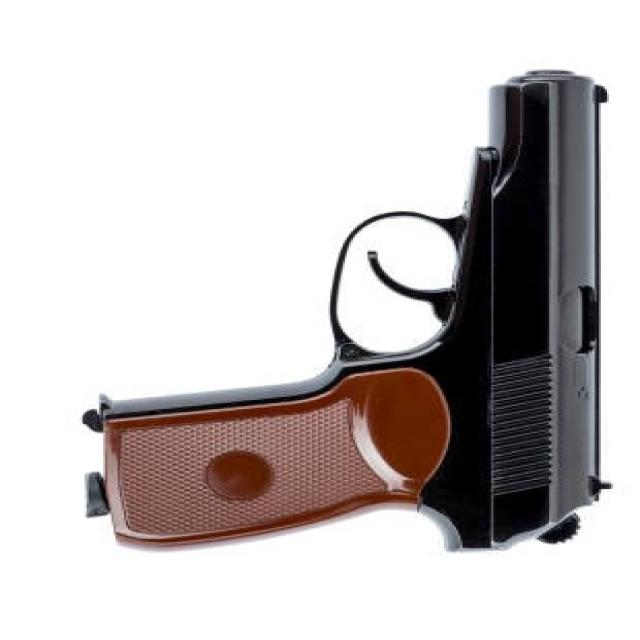pistol: (68, 67, 623, 569)
